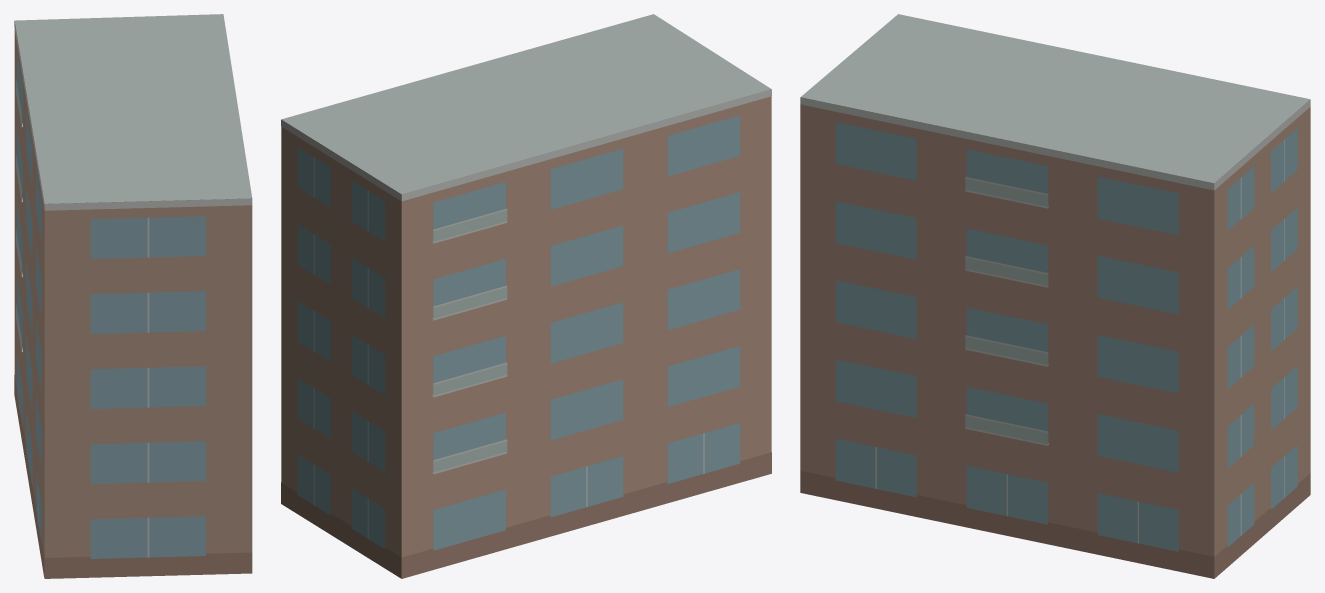
File: survey-upis-32536965.glb
The picture shows the model from 3 angles, left to right: view 1: azimuth 30°, elevation 25°; view 2: azimuth 150°, elevation 25°; view 3: azimuth 270°, elevation 25°; orthographic projection. The views are drawn at different scales.
Parts seen in each view (by area): view 1: survey-upis-32536965.tmp; view 2: survey-upis-32536965.tmp; view 3: survey-upis-32536965.tmp.
Part boxes in pixels (x1,y1,x2,y2): survey-upis-32536965.tmp: (14,14,252,578); survey-upis-32536965.tmp: (281,14,771,578); survey-upis-32536965.tmp: (800,14,1310,578).
Size of the model in its own units: 12.21 by 13.3 by 15.55.
